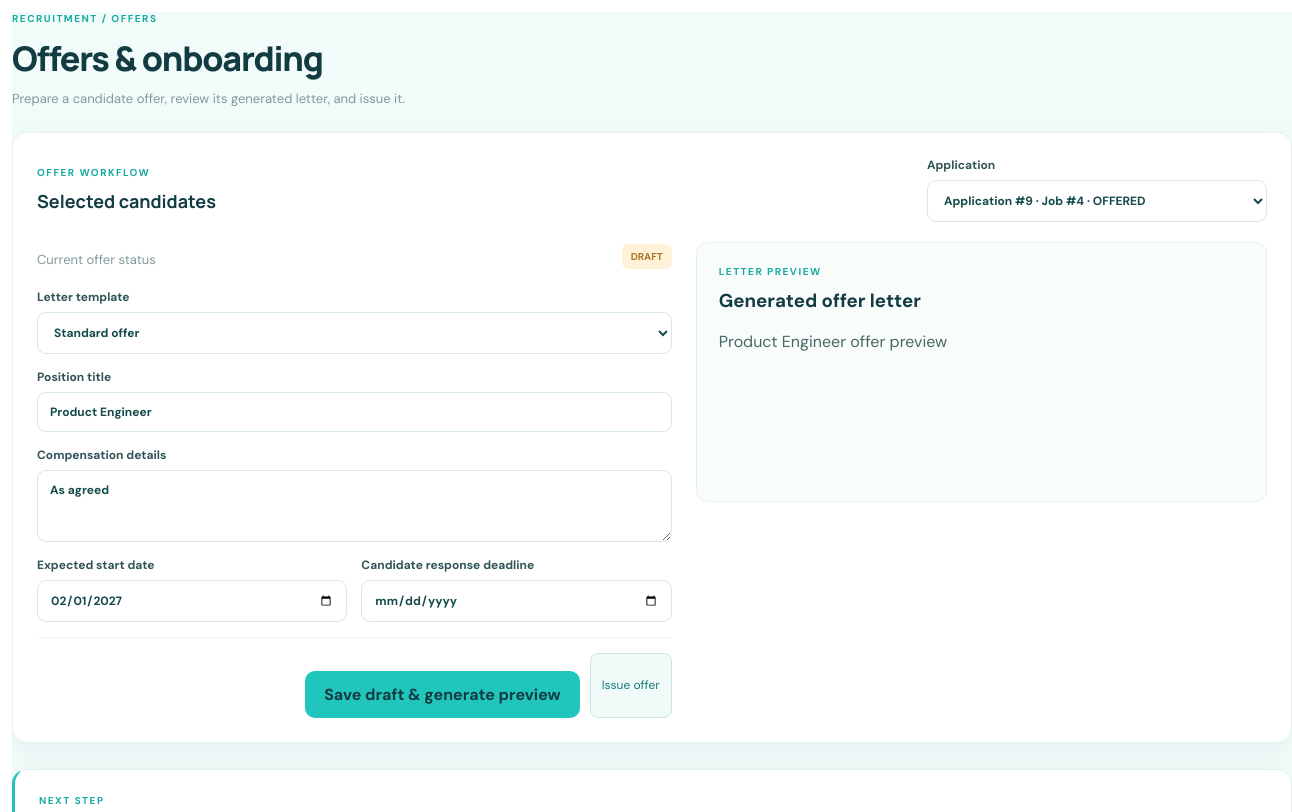
HROffers › confirms before issuing a saved draft and displays its issued status
The image size is (1292, 812).
Click the button "Issue offer" at (631,685), box left=590, top=653, right=672, bottom=718
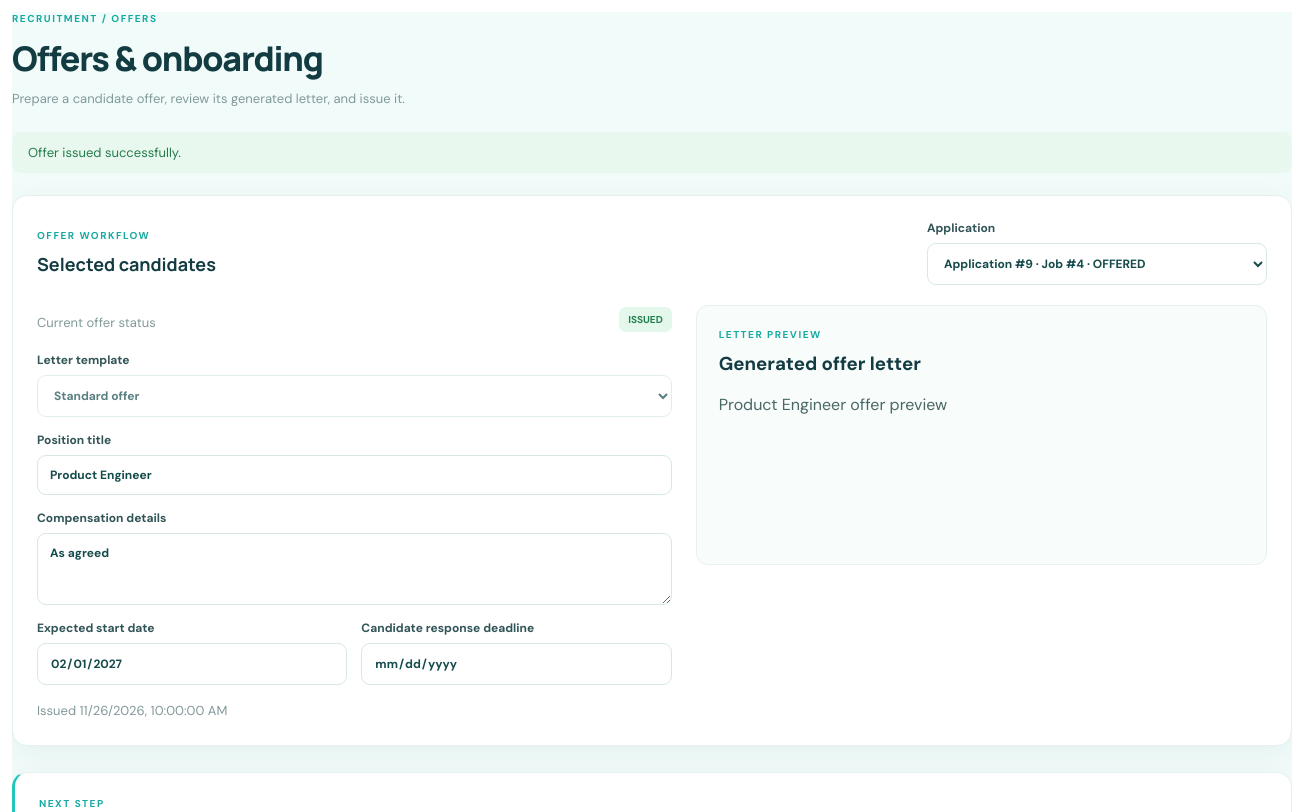
expect the text "ISSUED" is shown: met, box left=619, top=307, right=672, bottom=332
expect the text "Offer issued successfully." is shown: met, box left=12, top=132, right=1291, bottom=173
